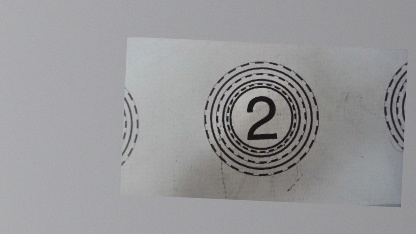2r: (198, 60, 320, 178)
